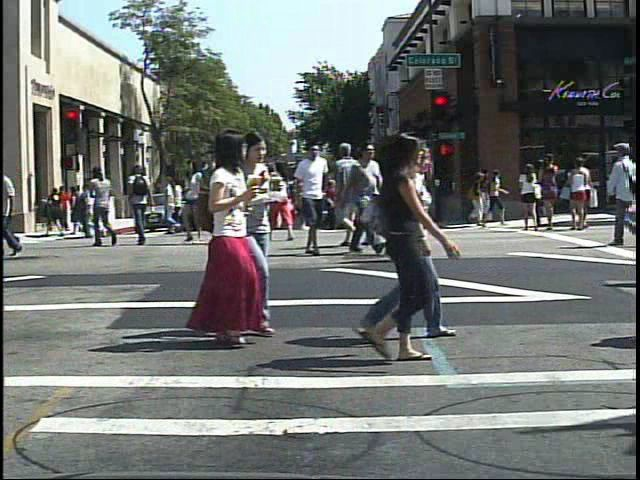person: (338, 128, 471, 364), (360, 134, 462, 345), (192, 128, 277, 349), (390, 134, 445, 263), (242, 128, 271, 335), (373, 136, 419, 261), (291, 135, 332, 261), (335, 138, 374, 248), (605, 131, 636, 250), (357, 143, 391, 250), (235, 146, 270, 246), (266, 149, 297, 248), (85, 163, 119, 247), (128, 164, 158, 247), (517, 159, 544, 234), (288, 164, 309, 232), (57, 183, 77, 233)
